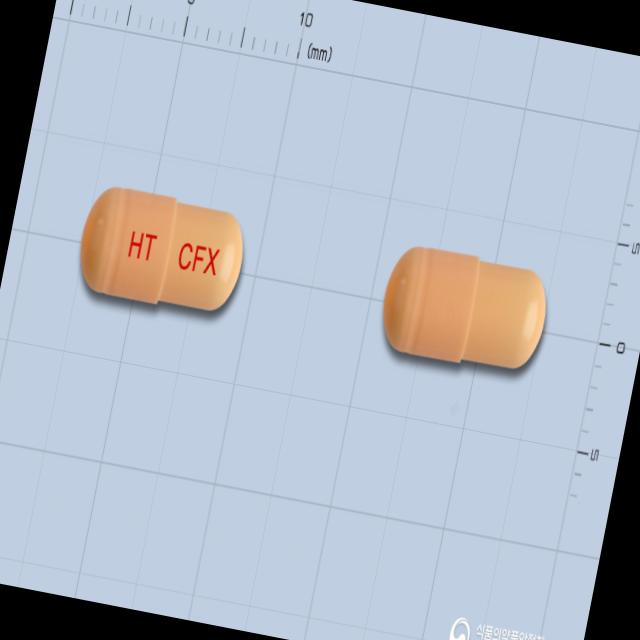Cefaxime Cap: (65, 172, 258, 334)
